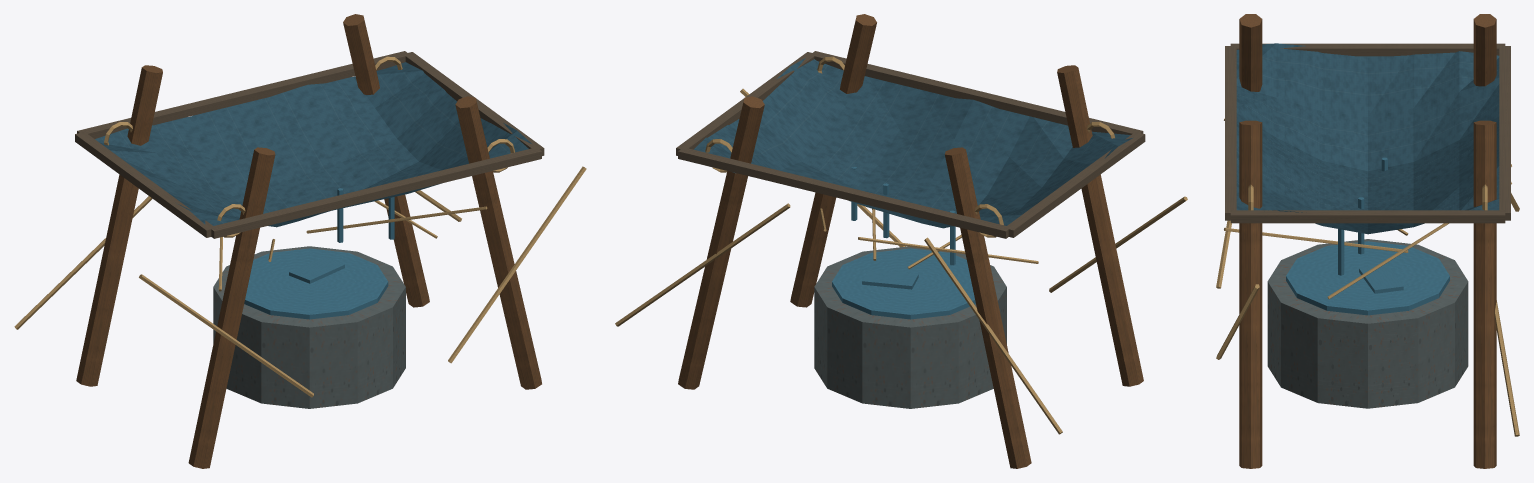
File: pr-016_water_collector__collecting.obj
3 views of the same model, side by side, from view 1: azimuth 30°, elevation 25°; view 2: azimuth 150°, elevation 25°; view 3: azimuth 270°, elevation 25° (orthographic). The views are drawn at different scales.
Visible parts, largest first — view 1: pr-016_water_collector__collecting; view 2: pr-016_water_collector__collecting; view 3: pr-016_water_collector__collecting.
Part boxes in pixels (box(x1,y1,x2,y2)): pr-016_water_collector__collecting: box(14, 14, 586, 468); pr-016_water_collector__collecting: box(615, 14, 1187, 468); pr-016_water_collector__collecting: box(1216, 14, 1519, 468).
Bounding box in the file's own units: 1.61 × 1.04 × 0.9078.
Materials: 6 (6 with a texture image).
